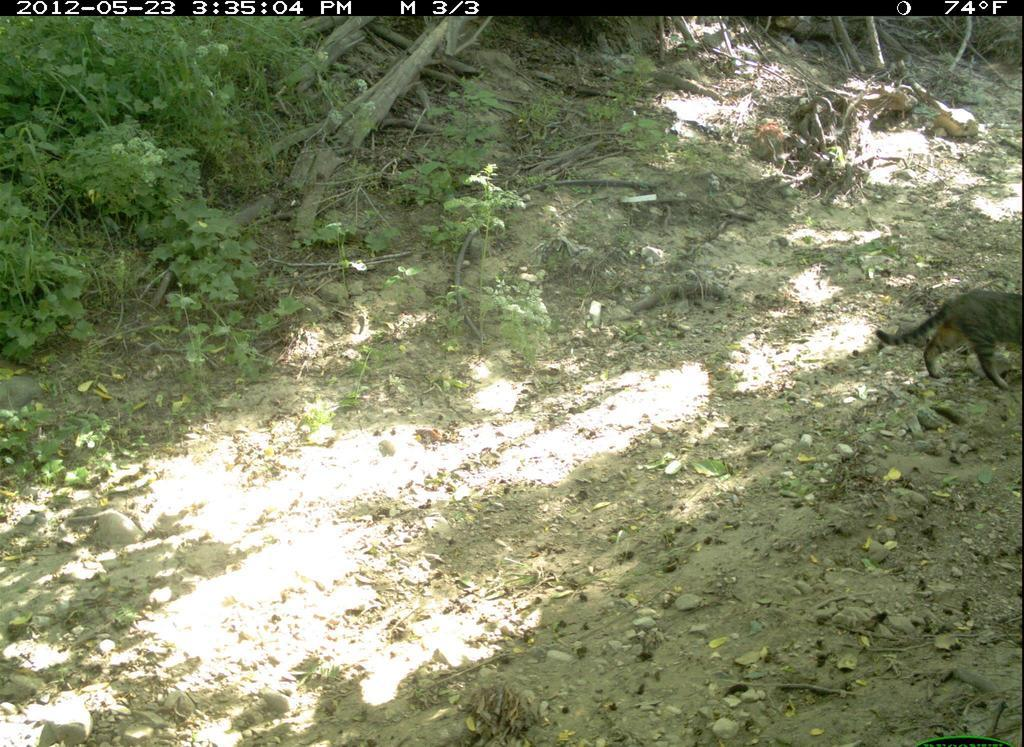cat: (862, 264, 1019, 400)
